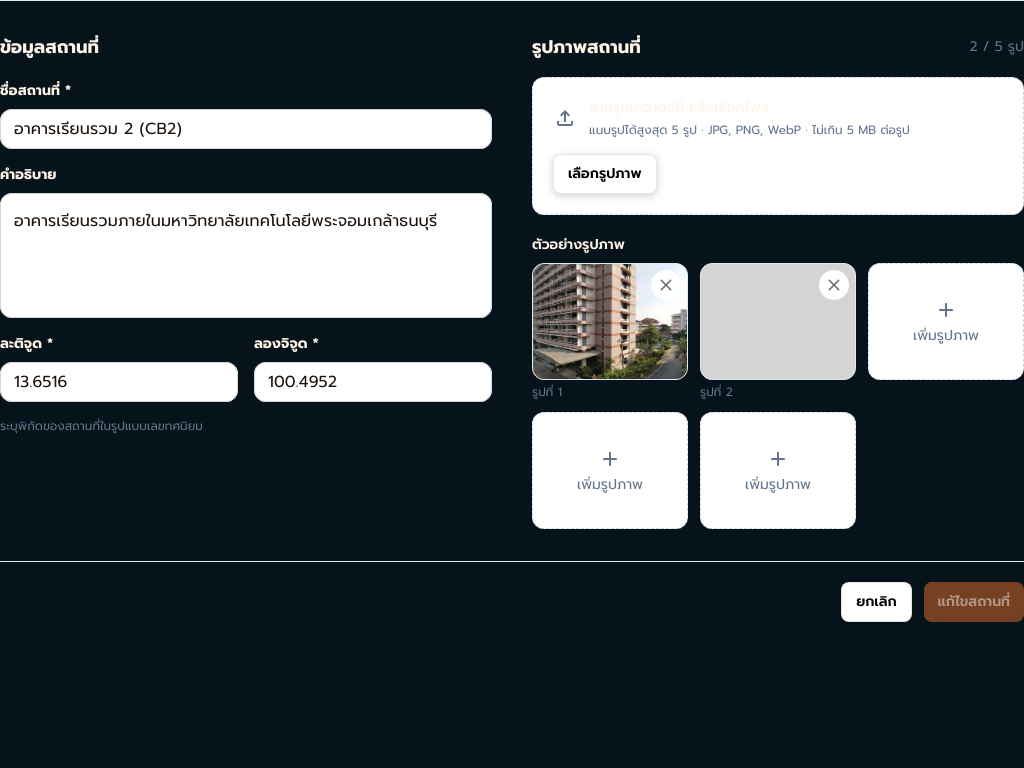
location editor › does not update when confirmation is cancelled
Replace the text in the field labelled "ชื่อสถานที่ *" with "อาคารใหม่" at x=246, y=129, box [0,110,492,149]
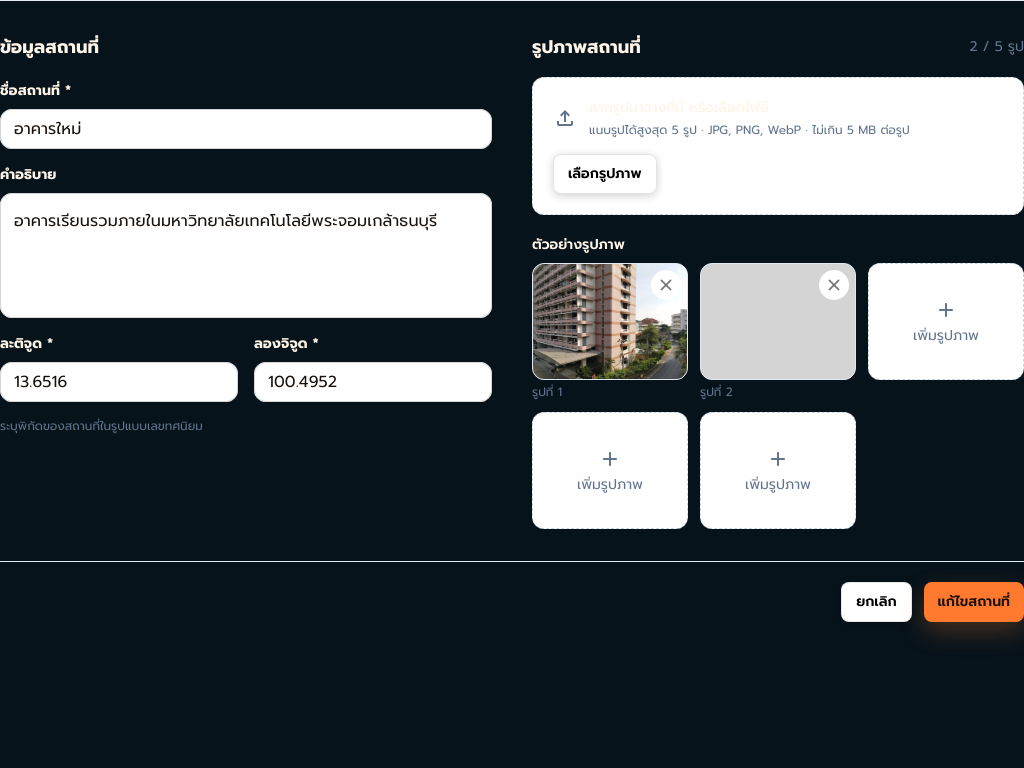
Now the button "แก้ไขสถานที่" is enabled
Click the button "แก้ไขสถานที่" at x=974, y=602, box [924,582,1023,622]
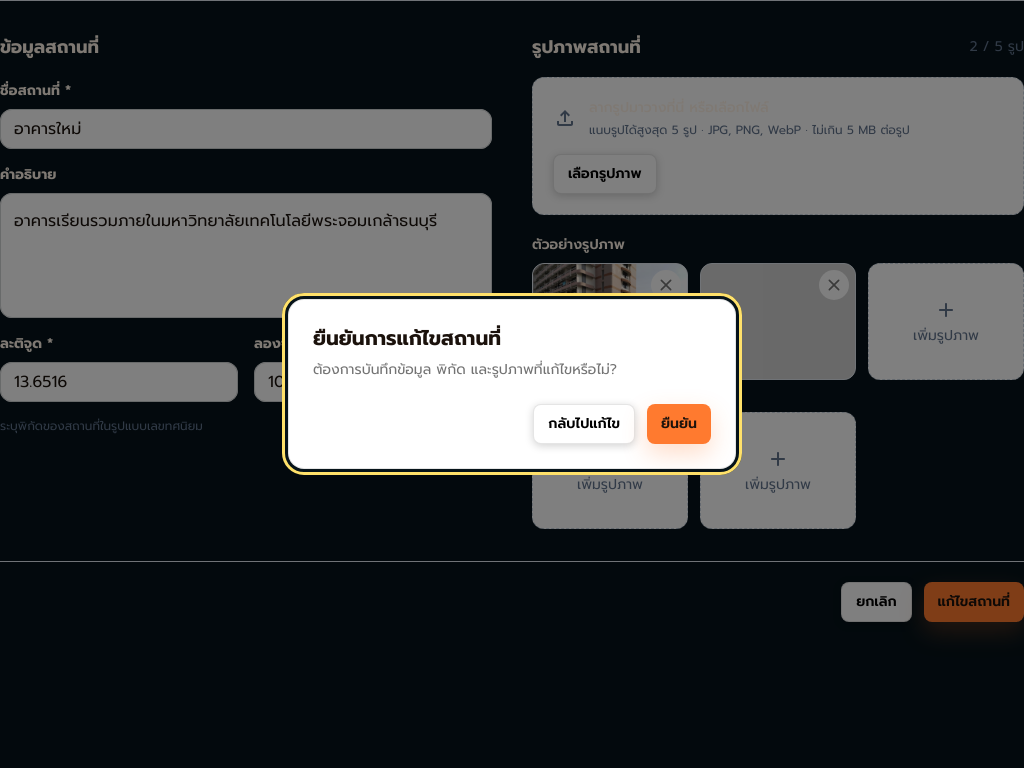
Click the button "กลับไปแก้ไข" at x=584, y=424, box [533,404,635,444]
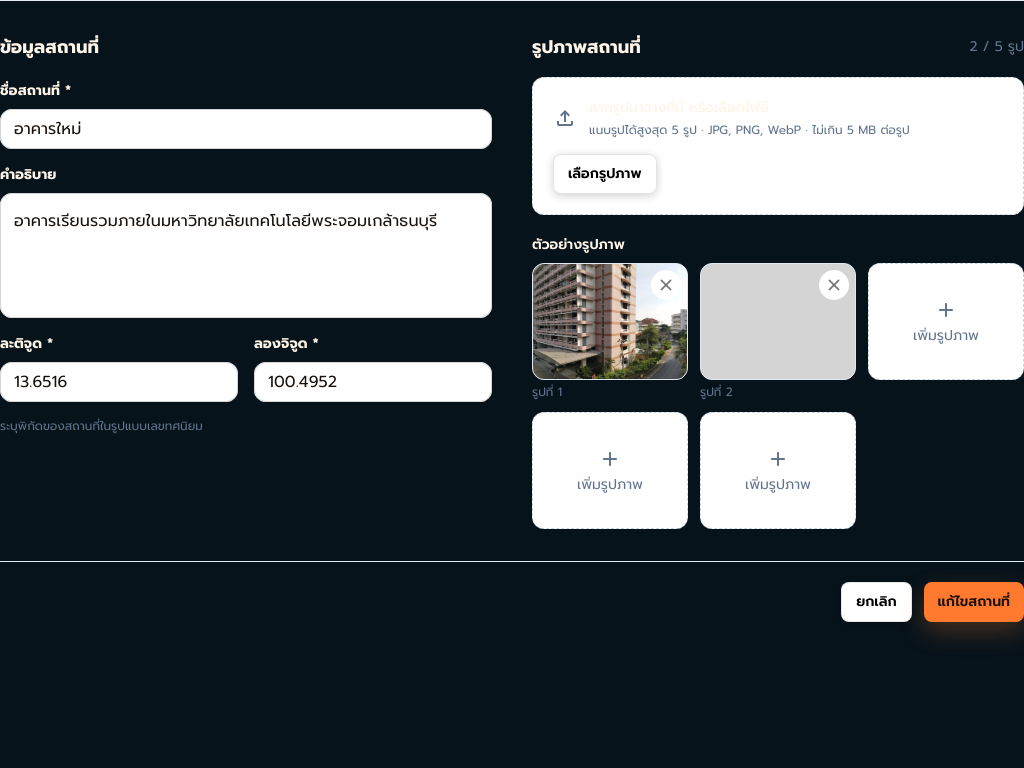
Now the dialog is gone
